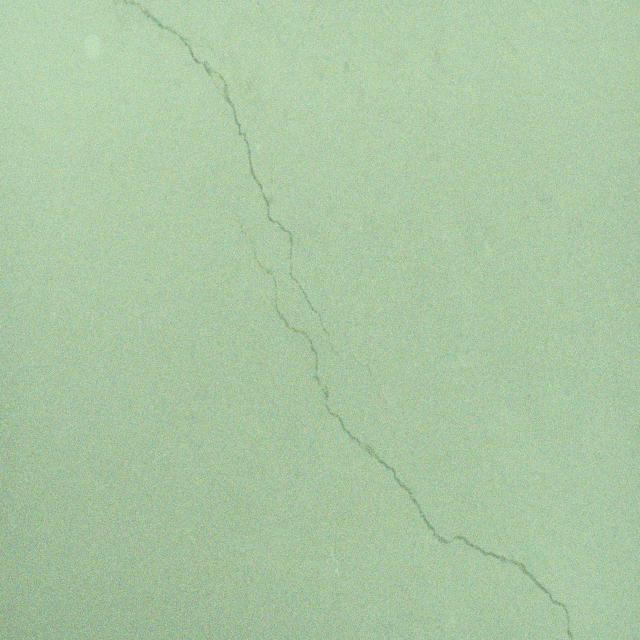crack: (225, 201, 574, 640), (122, 0, 353, 371), (349, 350, 392, 420)
